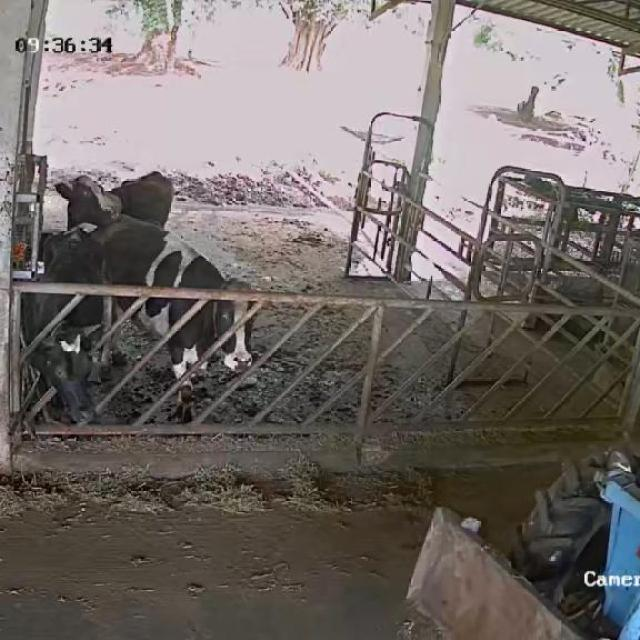feeding: (19, 232, 127, 428)
standing: (104, 208, 256, 432)
